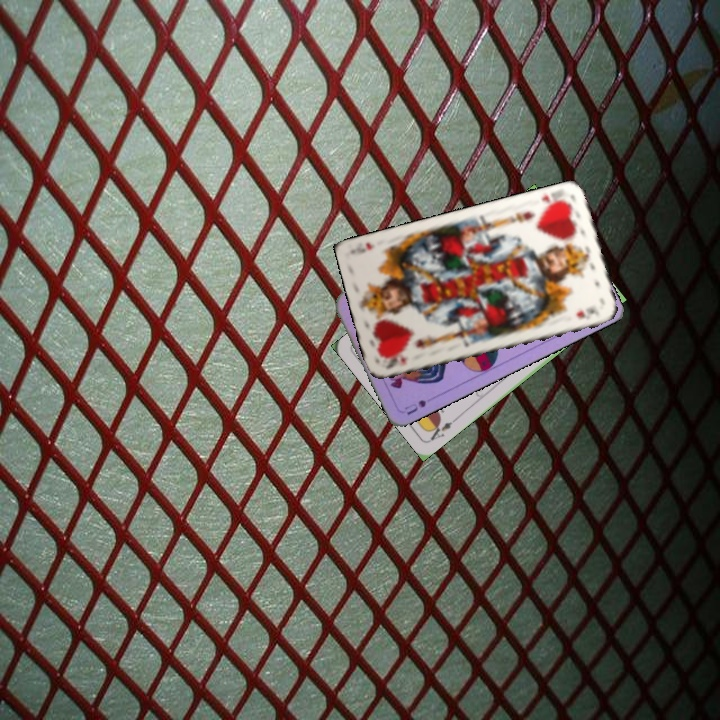EA: (424, 413, 460, 444)
HK: (538, 188, 569, 211), (381, 353, 411, 372)
SU: (400, 391, 438, 418)
